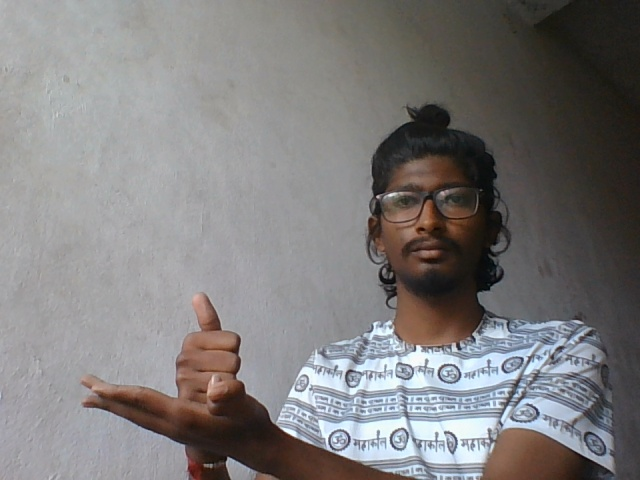Name: (69, 286, 280, 447)
